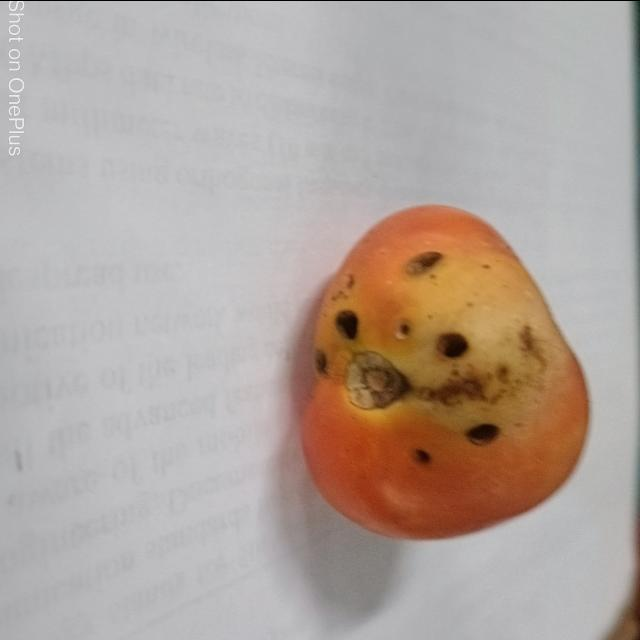fruitworm_bore: (464, 414, 506, 450), (404, 248, 446, 276), (332, 305, 362, 341), (435, 330, 470, 358), (406, 445, 438, 475), (396, 318, 416, 341)
